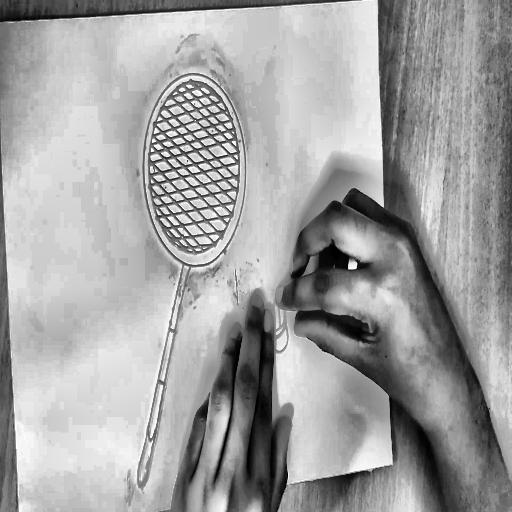badminton: (74, 59, 319, 503)
bottom_right: (390, 459, 395, 468)
